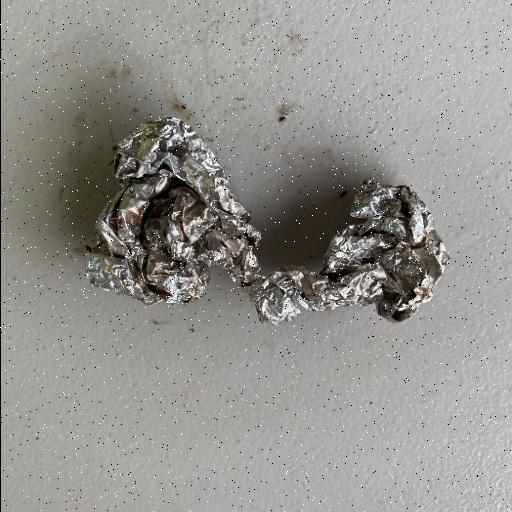Metal: (82, 114, 452, 328)
